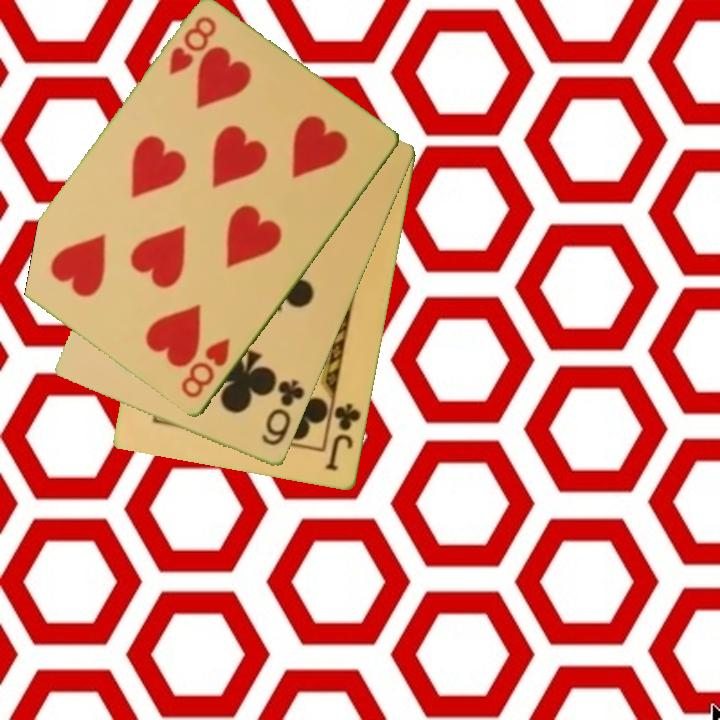6c: (257, 376, 308, 450)
8h: (177, 335, 234, 402), (165, 13, 220, 79)
Jc: (322, 399, 364, 474)
